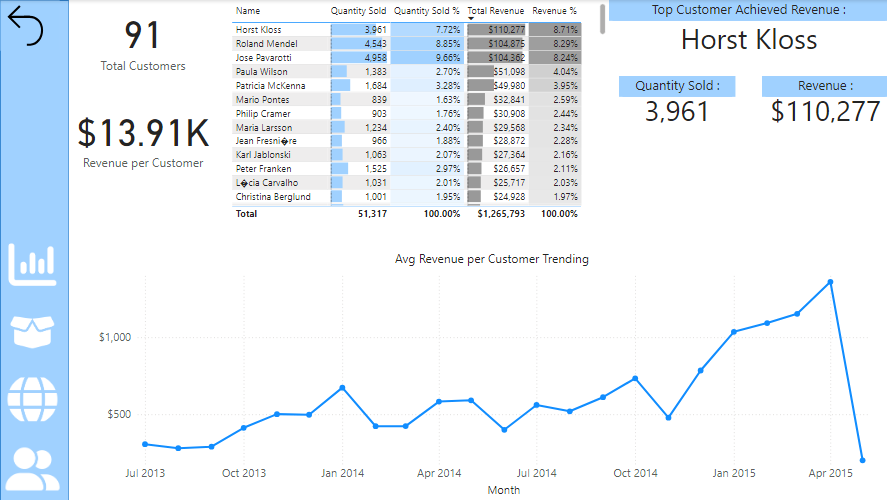

What the dashboard file says about the page in this screenshot:
{"tool":"powerbi","page":{"name":"Customer Details","canvas":[1280,720],"ordinal":3},"visuals":[{"type":"card","fields":{"Values":["_Measures Table.Total Customers"]},"box":[99.4,0,213.1,109.4],"z":0},{"type":"tableEx","fields":{"Values":["customers.contactName","_Measures Table.Quantity Sold","_Measures Table.Quantity Sold %","_Measures Table.Total Revenue","_Measures Table.Revenue %"]},"box":[331.2,0,581.8,381.6],"z":1000},{"type":"card","title":"Top Customer Achieved Revenue :","fields":{"Values":["customers.contactName"]},"box":[913,0,367.2,83.5],"z":2000},{"type":"card","title":"Quantity Sold :","fields":{"Values":["_Measures Table.Quantity Sold"]},"box":[913,109.4,152.6,72],"z":3000},{"type":"card","title":"Revenue :","fields":{"Values":["_Measures Table.Total Revenue"]},"box":[1097.3,109.4,182.9,72],"z":4000},{"type":"shape","box":[0,0,99.4,800.6],"z":5000},{"type":"card","fields":{"Values":["_Measures Table.Revenue per Cus"]},"box":[99.4,135.4,231.8,126.7],"z":6000},{"type":"lineChart","title":"Avg Revenue per Customer Trending","fields":{"Y":["_Measures Table.Avg Revenue per Cus"],"Category":["Calendar.Year","Calendar.Start of Month","Calendar.Start of Week"]},"box":[136.8,416.2,1143.4,303.8],"z":7000},{"type":"image","box":[7.2,345.6,79.2,70.6],"z":8000},{"type":"image","box":[5.8,538.6,82.1,73.4],"z":9000},{"type":"image","box":[10.1,440.6,73.4,76.3],"z":10000},{"type":"image","box":[2.8,628.8,88,91.2],"z":11000},{"type":"actionButton","box":[0,0,86.4,73.4],"z":12000}]}

Visuals, with their boxes on the page's 1280x720 design canvas (x1, y1, x2, y2). These are canvas units, not pixel positions in the 887x500 screenshot, which may show the page scaled, cropped or inside an application window:
card - _Measures Table.Total Customers: left=99, top=0, right=312, bottom=109
tableEx - customers.contactName x _Measures Table.Quantity Sold: left=331, top=0, right=913, bottom=382
"Top Customer Achieved Revenue :" card: left=913, top=0, right=1280, bottom=84
"Quantity Sold :" card: left=913, top=109, right=1066, bottom=181
"Revenue :" card: left=1097, top=109, right=1280, bottom=181
shape: left=0, top=0, right=99, bottom=801
card - _Measures Table.Revenue per Cus: left=99, top=135, right=331, bottom=262
"Avg Revenue per Customer Trending" lineChart: left=137, top=416, right=1280, bottom=720
image: left=7, top=346, right=86, bottom=416
image: left=6, top=539, right=88, bottom=612
image: left=10, top=441, right=84, bottom=517
image: left=3, top=629, right=91, bottom=720
actionButton: left=0, top=0, right=86, bottom=73
